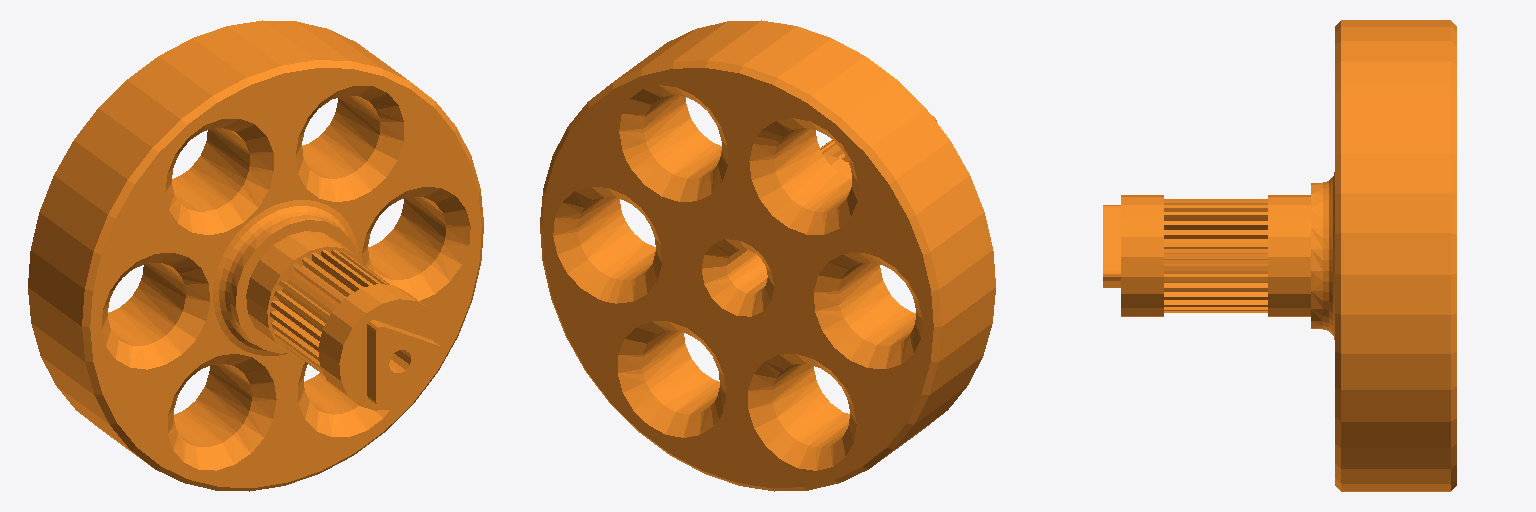
The robot description file, URDF, robot "Maket":
<?xml version="1.0" encoding="utf-8"?>
<!-- This URDF was automatically created by SolidWorks to URDF Exporter! Originally created by [author] ([email redacted]) 
     Commit Version: 1.6.0-4-g7f85cfe  Build Version: 1.6.7995.38578
     For more information, please see http://wiki.ros.org/sw_urdf_exporter -->
<robot
  name="Maket">
  <link
    name="Maket">
    <inertial>
      <origin
        xyz="0.022152700168409 -0.000809996770580155 0.107200331423198"
        rpy="0 0 0" />
      <mass
        value="2.24483698501812" />
      <inertia
        ixx="0.017171108266307"
        ixy="7.41182378513859E-05"
        ixz="0.000134548028700423"
        iyy="0.00556240946464024"
        iyz="-8.46684644335415E-05"
        izz="0.0154086578851944" />
    </inertial>
    <visual>
      <origin
        xyz="0 0 0"
        rpy="0 0 0" />
      <geometry>
        <mesh
          filename="package://Maket/meshes/Maket.STL" />
      </geometry>
      <material
        name="">
        <color
          rgba="1 0.898039215686275 0.8 1" />
      </material>
    </visual>
    <collision>
      <origin
        xyz="0 0 0"
        rpy="0 0 0" />
      <geometry>
        <mesh
          filename="package://Maket/meshes/Maket.STL" />
      </geometry>
    </collision>
  </link>
  <link
    name="Right_Wheel">
    <inertial>
      <origin
        xyz="-6.175795070019E-18 -2.42861286636753E-17 0.0116563539649974"
        rpy="0 0 0" />
      <mass
        value="0.0609278440646647" />
      <inertia
        ixx="1.61548368325699E-05"
        ixy="2.20581496687333E-25"
        ixz="5.46368876626065E-22"
        iyy="1.61548368325699E-05"
        iyz="-8.00640302327215E-21"
        izz="2.55932138713017E-05" />
    </inertial>
    <visual>
      <origin
        xyz="0 0 0"
        rpy="0 0 0" />
      <geometry>
        <mesh
          filename="package://Maket/meshes/Right_Wheel.STL" />
      </geometry>
      <material
        name="">
        <color
          rgba="1 0.6 0.2 1" />
      </material>
    </visual>
    <collision>
      <origin
        xyz="0 0 0"
        rpy="0 0 0" />
      <geometry>
        <mesh
          filename="package://Maket/meshes/Right_Wheel.STL" />
      </geometry>
    </collision>
  </link>
  <joint
    name="RightWheel"
    type="continuous">
    <origin
      xyz="0.040866 -0.2 0.015296"
      rpy="-1.5708 0 0" />
    <parent
      link="Maket" />
    <child
      link="Right_Wheel" />
    <axis
      xyz="0 0 1" />
    <limit
      effort="10"
      velocity="10" />
    <dynamics
      damping="0.1"
      friction="0.1" />
  </joint>
  <link
    name="Left_Wheel">
    <inertial>
      <origin
        xyz="-2.26065295916128E-19 -2.42861286636753E-17 -0.010522332891134"
        rpy="0 0 0" />
      <mass
        value="0.0577108531873887" />
      <inertia
        ixx="1.50439026496173E-05"
        ixy="3.8344358952925E-24"
        ixz="-7.45264249140294E-23"
        iyy="1.50439026496173E-05"
        iyz="1.07315574491882E-20"
        izz="2.55674779442835E-05" />
    </inertial>
    <visual>
      <origin
        xyz="0 0 0"
        rpy="0 0 0" />
      <geometry>
        <mesh
          filename="package://Maket/meshes/Left_Wheel.STL" />
      </geometry>
      <material
        name="">
        <color
          rgba="1 0.6 0.2 1" />
      </material>
    </visual>
    <collision>
      <origin
        xyz="0 0 0"
        rpy="0 0 0" />
      <geometry>
        <mesh
          filename="package://Maket/meshes/Left_Wheel.STL" />
      </geometry>
    </collision>
  </link>
  <joint
    name="LeftWheel"
    type="continuous">
    <origin
      xyz="0.040866 0.2 0.015296"
      rpy="-1.5708 0 0" />
    <parent
      link="Maket" />
    <child
      link="Left_Wheel" />
    <axis
      xyz="0 0 -1" />
    <limit
      effort="10"
      velocity="10" />
    <dynamics
      damping="0.1"
      friction="0.1" />
  </joint>
  <link
    name="Roller">
    <inertial>
      <origin
        xyz="0 -2.16840434497101E-19 -1.24564498913758E-18"
        rpy="0 0 0" />
      <mass
        value="0.0106249291862938" />
      <inertia
        ixx="1.45256797391153E-06"
        ixy="2.30645963814273E-39"
        ixz="1.03955497655845E-24"
        iyy="1.45256797391153E-06"
        iyz="-1.31736089733523E-22"
        izz="5.42471410392509E-07" />
    </inertial>
    <visual>
      <origin
        xyz="0 0 0"
        rpy="0 0 0" />
      <geometry>
        <mesh
          filename="package://Maket/meshes/Roller.STL" />
      </geometry>
      <material
        name="">
        <color
          rgba="1 0.6 0.2 1" />
      </material>
    </visual>
    <collision>
      <origin
        xyz="0 0 0"
        rpy="0 0 0" />
      <geometry>
        <mesh
          filename="package://Maket/meshes/Roller.STL" />
      </geometry>
    </collision>
  </link>
  <joint
    name="Roller"
    type="continuous">
    <origin
      xyz="-0.055737 0 -0.005"
      rpy="-1.5708 0 0" />
    <parent
      link="Maket" />
    <child
      link="Roller" />
    <axis
      xyz="0 0 -1" />
    <limit
      effort="10"
      velocity="10" />
    <dynamics
      damping="0.1"
      friction="0.1" />
  </joint>
</robot>

--- Facts derived from the render (not from the file) ---
The picture shows the robot from 3 angles, left to right: view 1: azimuth 30°, elevation 25°; view 2: azimuth 150°, elevation 25°; view 3: azimuth 270°, elevation 25°; orthographic projection.
Model Maket with 4 links and 3 joints (3 continuous), rooted at Maket, posed all joints at 0.
Links seen in each view (by area): view 1: Left_Wheel; view 2: Left_Wheel; view 3: Left_Wheel.
Boxes of the visible links, left/top/right/bottom form: Left_Wheel: left=28, top=20, right=483, bottom=491; Left_Wheel: left=540, top=20, right=995, bottom=491; Left_Wheel: left=1103, top=20, right=1456, bottom=491.
Size in the robot's own frame: 0.0772 by 0.058 by 0.0772 metres.
Meshes: 4 distinct files referenced, 1 mesh visuals loaded (1 binary STL); not drawn: 3 (reference not matched to a file when rendering).